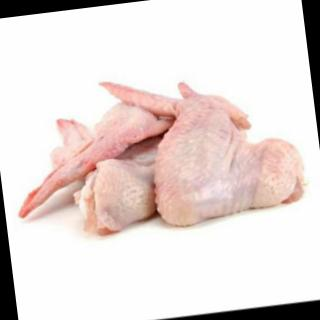Ayam: (5, 57, 311, 249), (98, 59, 310, 235)
